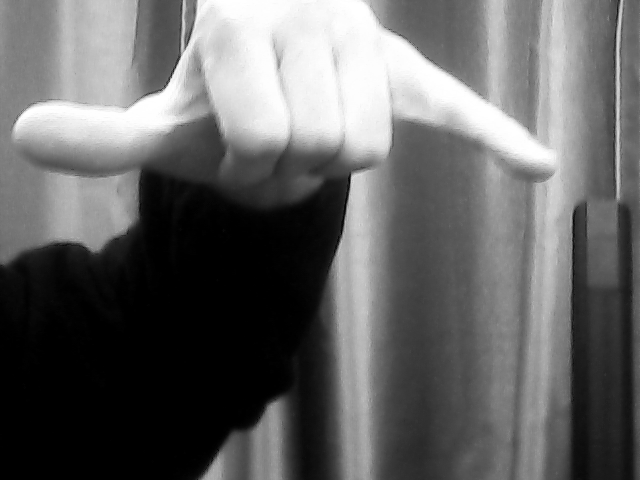aloha: (12, 1, 559, 201)
